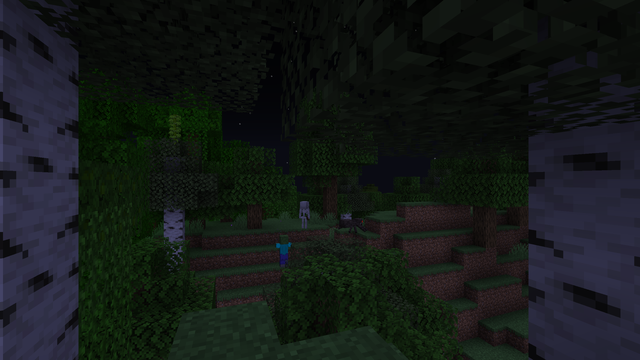araignees: (339, 216, 365, 232)
squelettes: (299, 201, 308, 228)
zombies: (278, 235, 289, 268)
